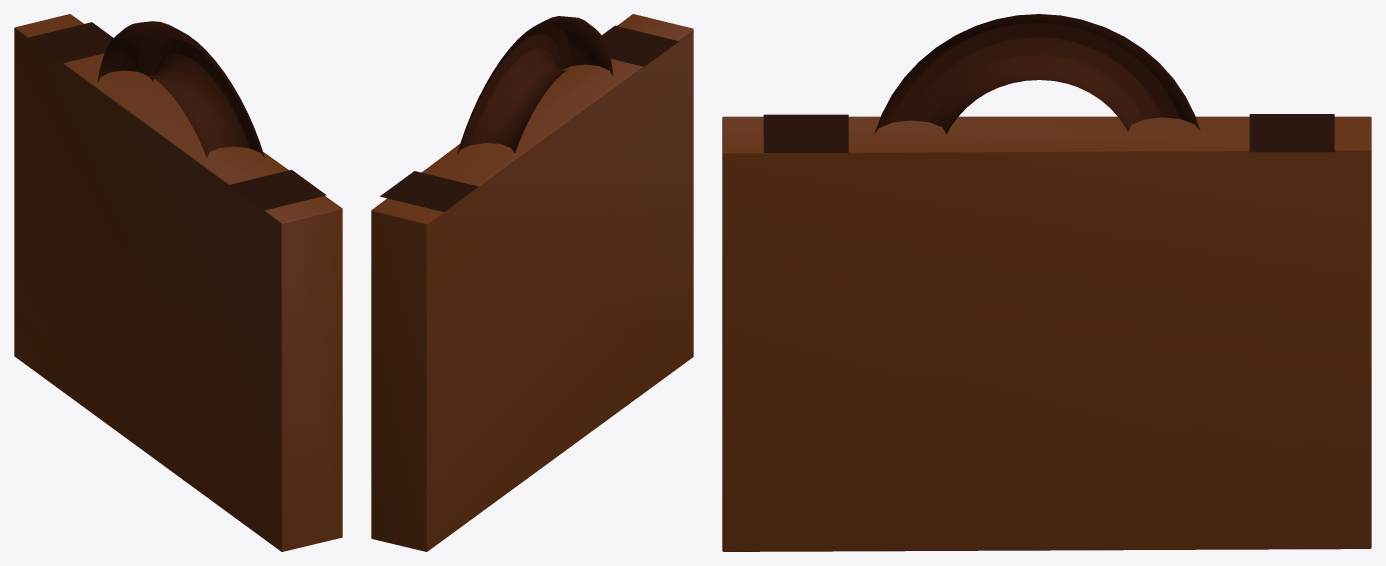
File: briefcase.fbx
3 renders of one model, left to right at view 1: azimuth 30°, elevation 25°; view 2: azimuth 150°, elevation 25°; view 3: azimuth 270°, elevation 25°, orthographic. The views are drawn at different scales.
Parts seen in each view (by area): view 1: Cube; view 2: Cube; view 3: Cube.
Boxes of the visible parts, x1=… form: Cube: x1=14, y1=14, x2=342, y2=551; Cube: x1=371, y1=14, x2=693, y2=551; Cube: x1=722, y1=14, x2=1371, y2=551.
Size of the model in its own units: 17.37 by 104 by 119.
